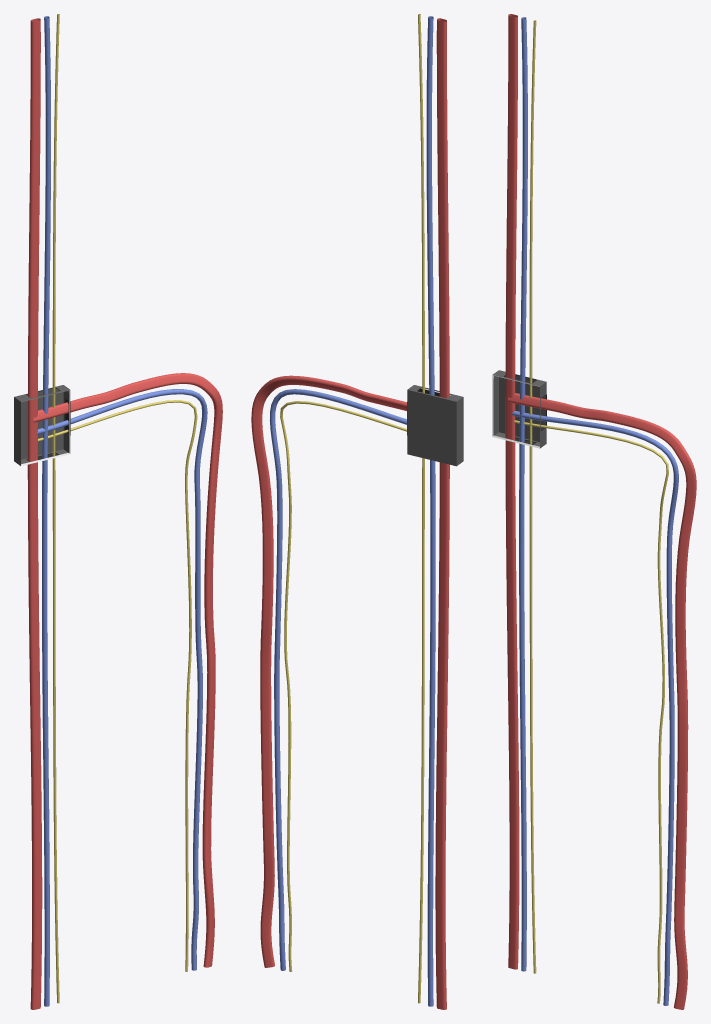
File: WiresR.fbx
3 renders of one model, left to right at view 1: azimuth 30°, elevation 25°; view 2: azimuth 150°, elevation 25°; view 3: azimuth 330°, elevation 25°, orthographic. The views are drawn at different scales.
Parts seen in each view (by area): view 1: NurbsPath.008, BezierCurve.006, NurbsPath.007, BezierCurve.007, NurbsPath.006, Cube.017, BezierCurve.008; view 2: NurbsPath.008, BezierCurve.006, NurbsPath.007, BezierCurve.007, Cube.017, NurbsPath.006, BezierCurve.008; view 3: NurbsPath.008, BezierCurve.006, NurbsPath.007, BezierCurve.007, NurbsPath.006, Cube.017, BezierCurve.008.
Boxes of the visible parts, bbox=[...] form: NurbsPath.008: bbox=[27, 18, 42, 1009]; BezierCurve.006: bbox=[33, 373, 222, 967]; NurbsPath.007: bbox=[42, 16, 50, 1006]; BezierCurve.007: bbox=[37, 389, 207, 970]; NurbsPath.006: bbox=[52, 14, 59, 1003]; Cube.017: bbox=[14, 385, 70, 466]; BezierCurve.008: bbox=[38, 400, 197, 971]; NurbsPath.008: bbox=[435, 18, 449, 1009]; BezierCurve.006: bbox=[251, 375, 406, 967]; NurbsPath.007: bbox=[426, 16, 435, 1006]; BezierCurve.007: bbox=[269, 389, 406, 970]; Cube.017: bbox=[407, 385, 463, 466]; NurbsPath.006: bbox=[418, 14, 424, 1003]; BezierCurve.008: bbox=[280, 401, 406, 971]; NurbsPath.008: bbox=[505, 14, 519, 969]; BezierCurve.006: bbox=[507, 393, 696, 1009]; NurbsPath.007: bbox=[519, 17, 527, 971]; BezierCurve.007: bbox=[512, 411, 678, 1005]; NurbsPath.006: bbox=[529, 20, 536, 973]; Cube.017: bbox=[492, 370, 546, 448]; BezierCurve.008: bbox=[514, 420, 668, 1003].
Bounding box in the file's own units: 87.5 × 400 × 5.48.
